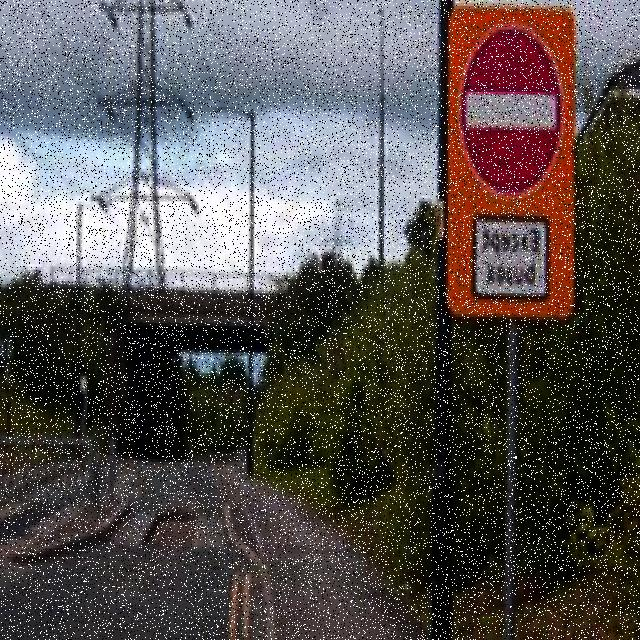no entry: (462, 26, 564, 192)
